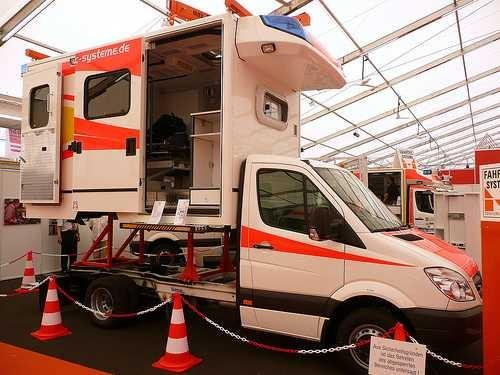car: (18, 8, 483, 374)
